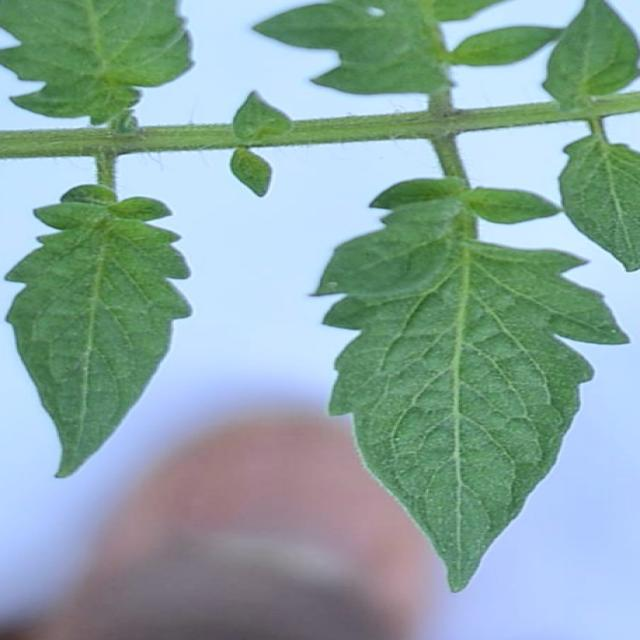healthy: (290, 182, 640, 595), (2, 184, 188, 485), (251, 0, 549, 101), (0, 0, 214, 116), (547, 130, 640, 276), (522, 0, 636, 98), (226, 90, 304, 203)
